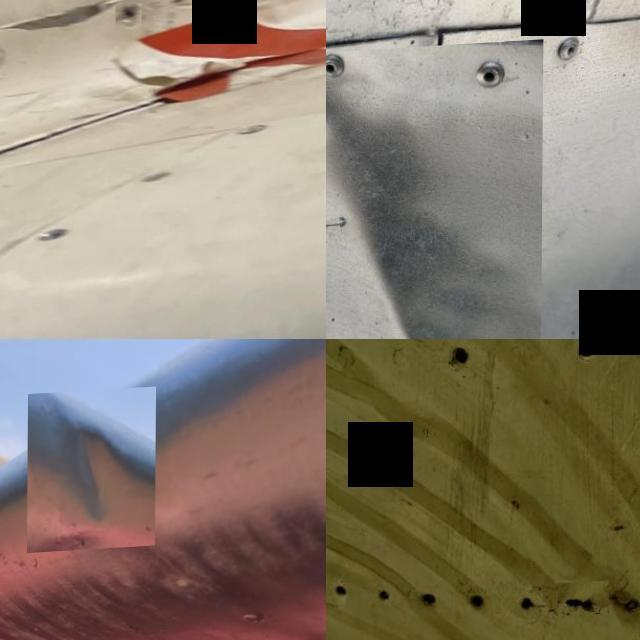Crack: (412, 22, 466, 122), (3, 0, 109, 38), (558, 585, 609, 632)
Dent: (326, 45, 543, 339), (27, 392, 156, 556)
Missing_Fastener: (34, 228, 76, 250), (116, 8, 142, 29), (0, 48, 9, 76)
